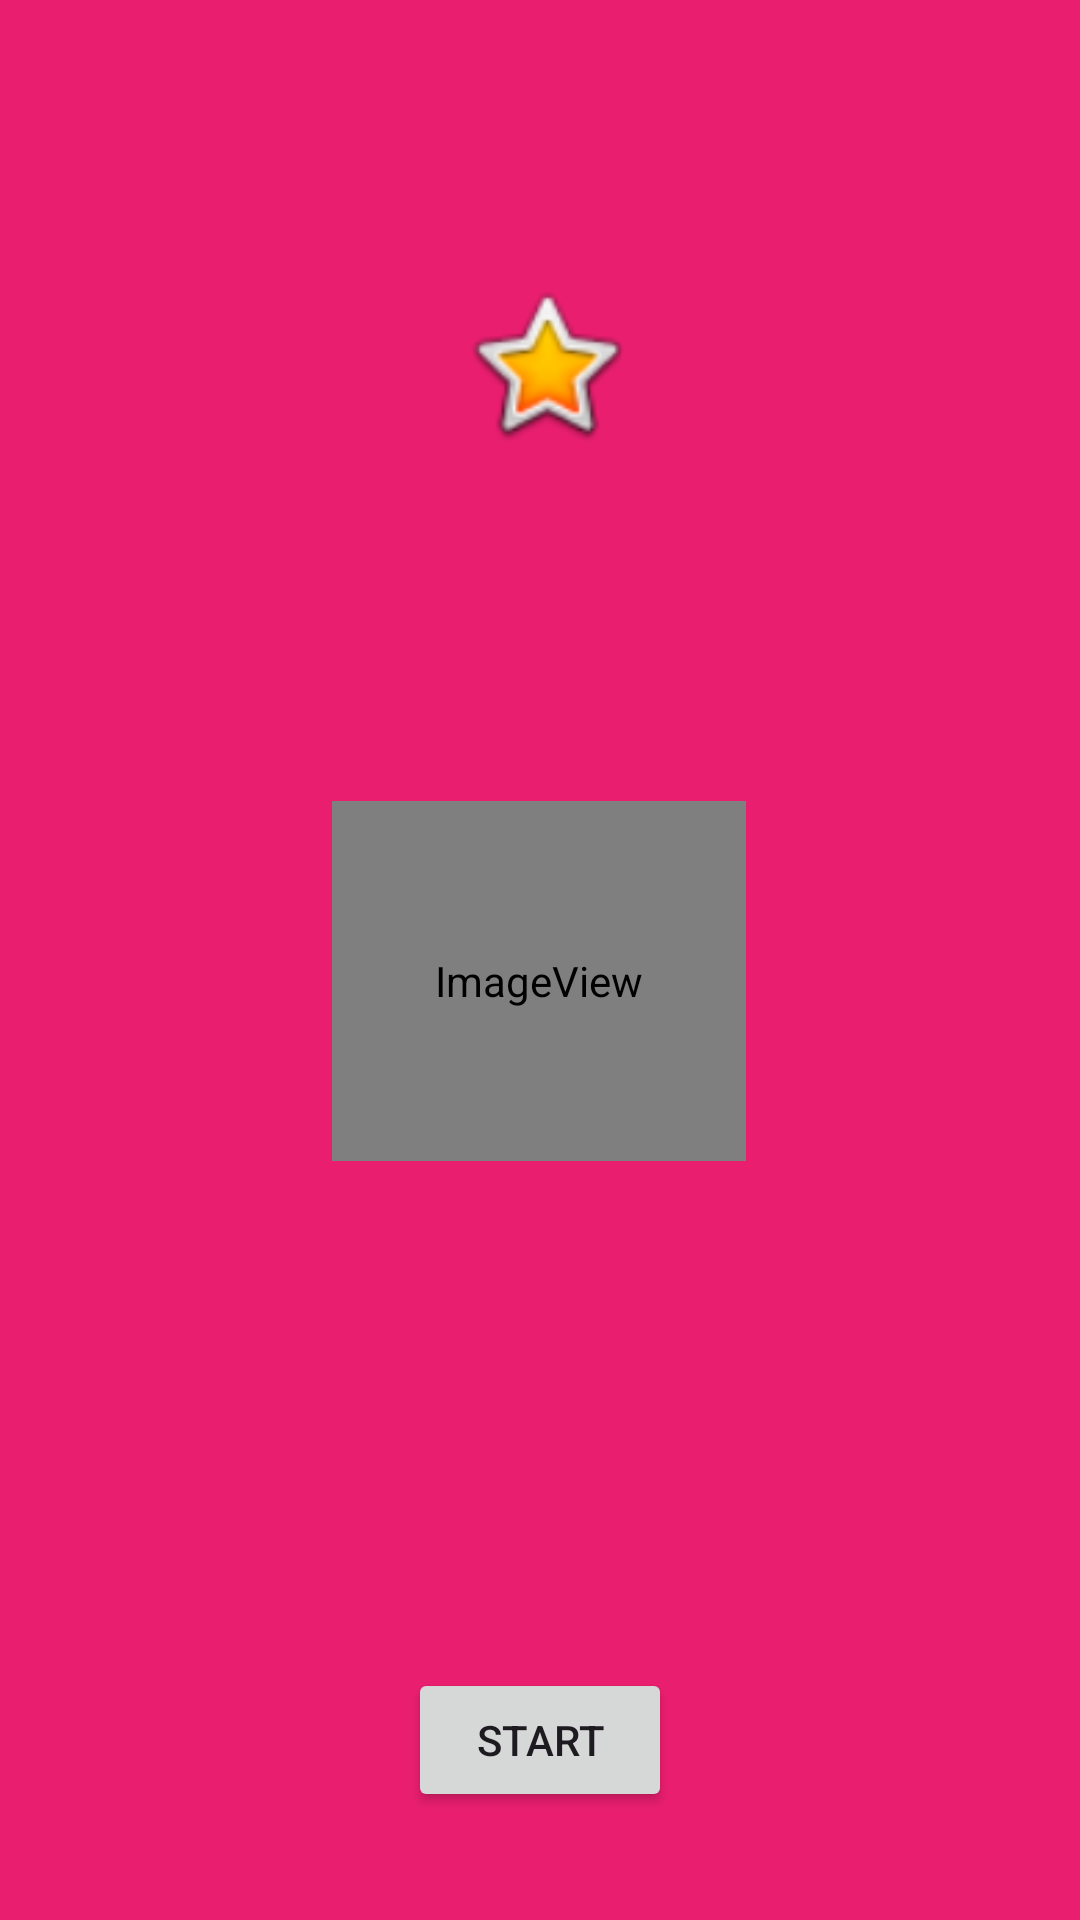

Icons on this 1080 x 1920 Android screen, each with the point to tap as (x,y):
star on: (547,366)
